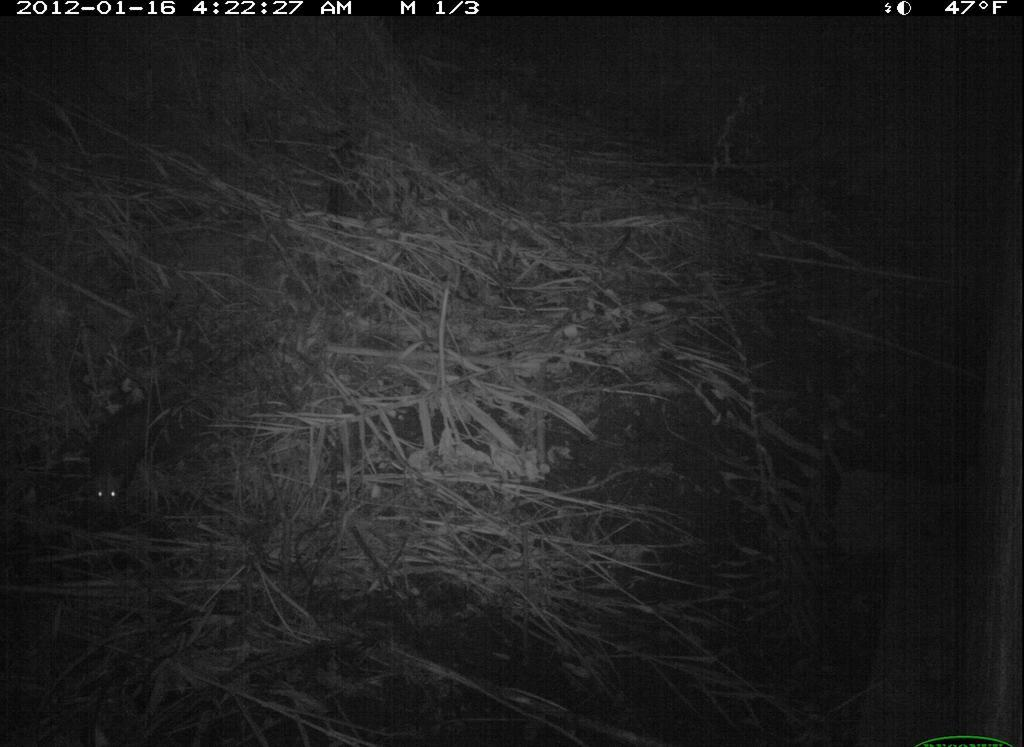opossum: (72, 359, 198, 521)
